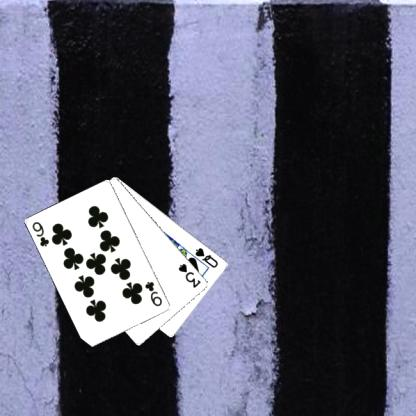3S: (176, 260, 202, 290)
9C: (142, 278, 164, 308), (30, 219, 51, 248)
QS: (192, 245, 220, 270)
